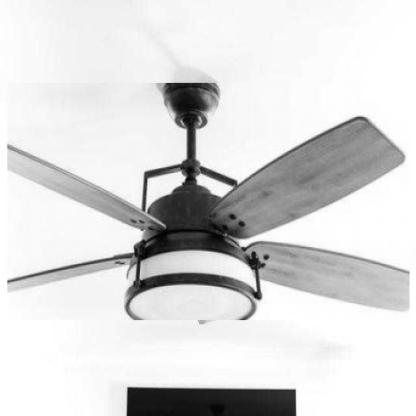ceiling-fan: (7, 83, 410, 321)
